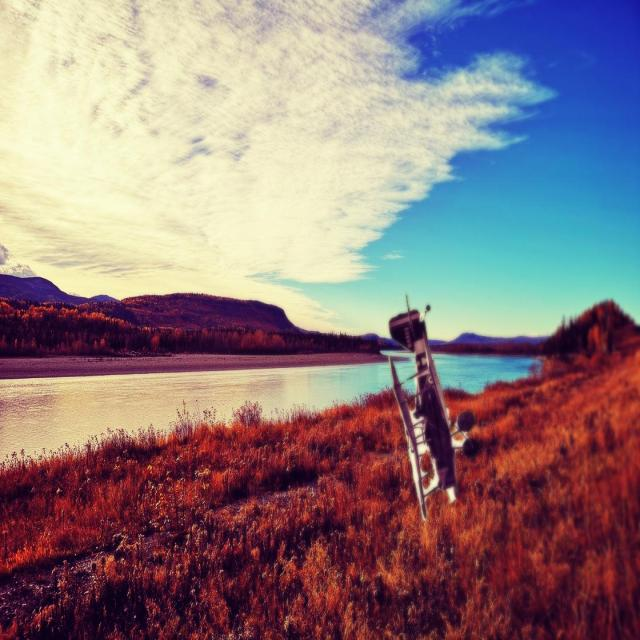airplane: (362, 294, 476, 522)
